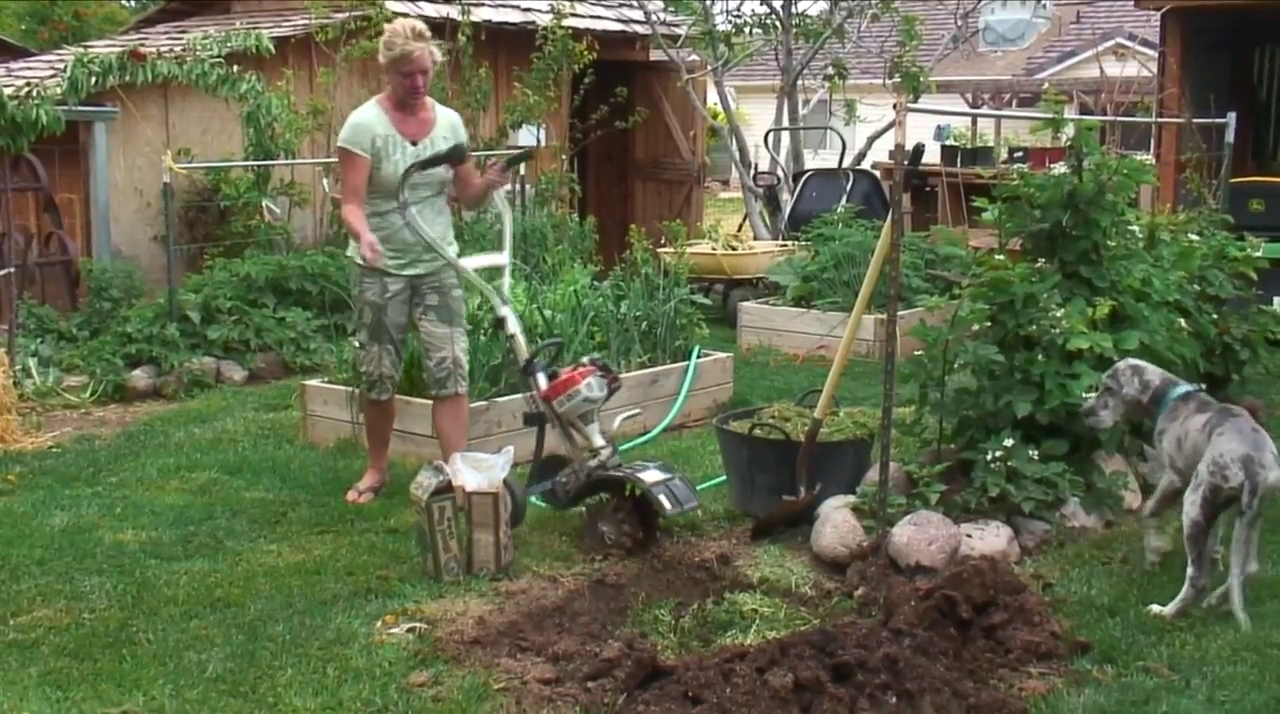person: (336, 18, 506, 506)
